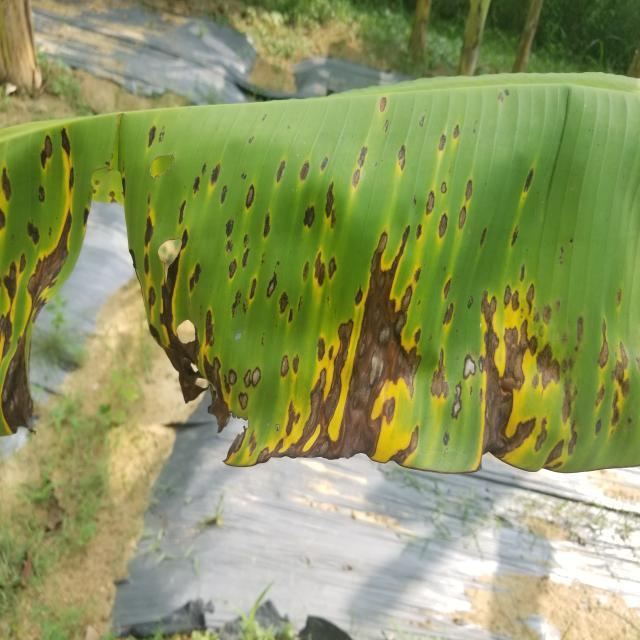Early_rust: (0, 76, 640, 512)
